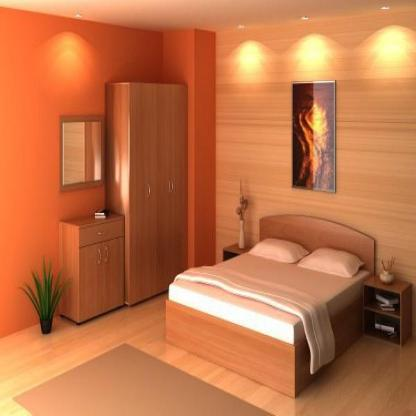other: (229, 28, 415, 72), (52, 27, 90, 86)
